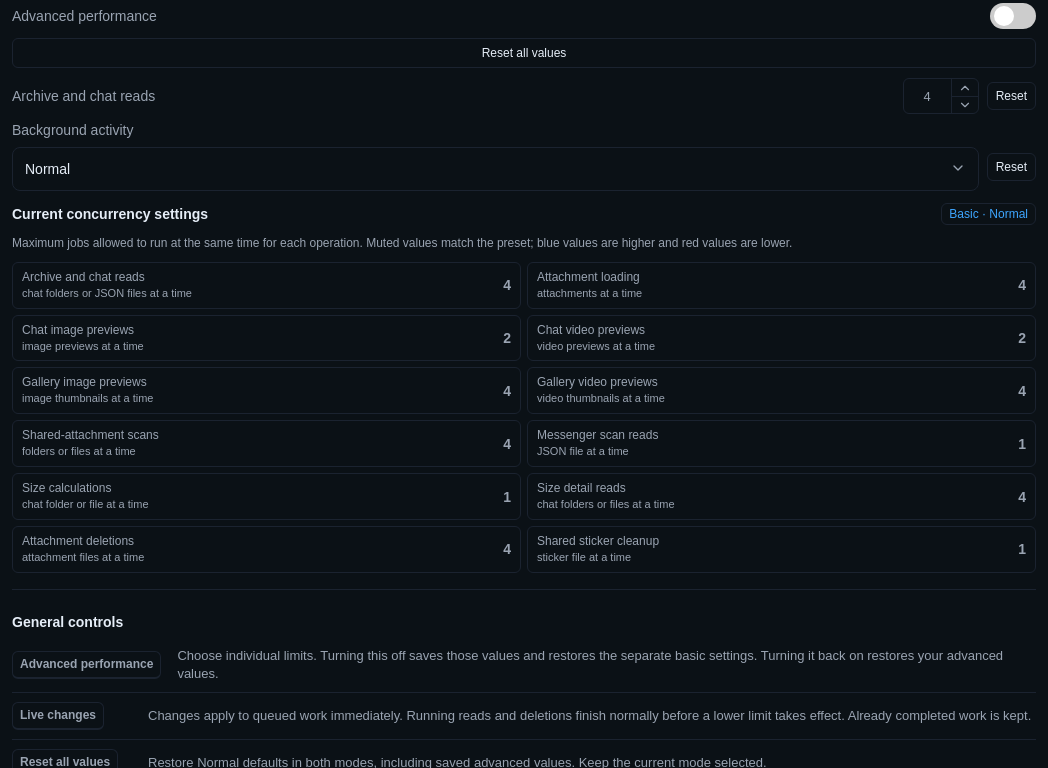
Test case: shows every active limit in the information stats through preset, mode, and reset changes
Expected: the text "JSON file at a time" is shown, [537,445,629,457]
Expected: the text "Basic · Normal" is shown, [941,203,1036,225]
Replace the text in the number field labelled "Archive and chat reads" with "6". click: (927, 96)
box: [904,79,951,113]
Click the button named "Background activity". click: (48, 169)
box: [12,147,979,191]
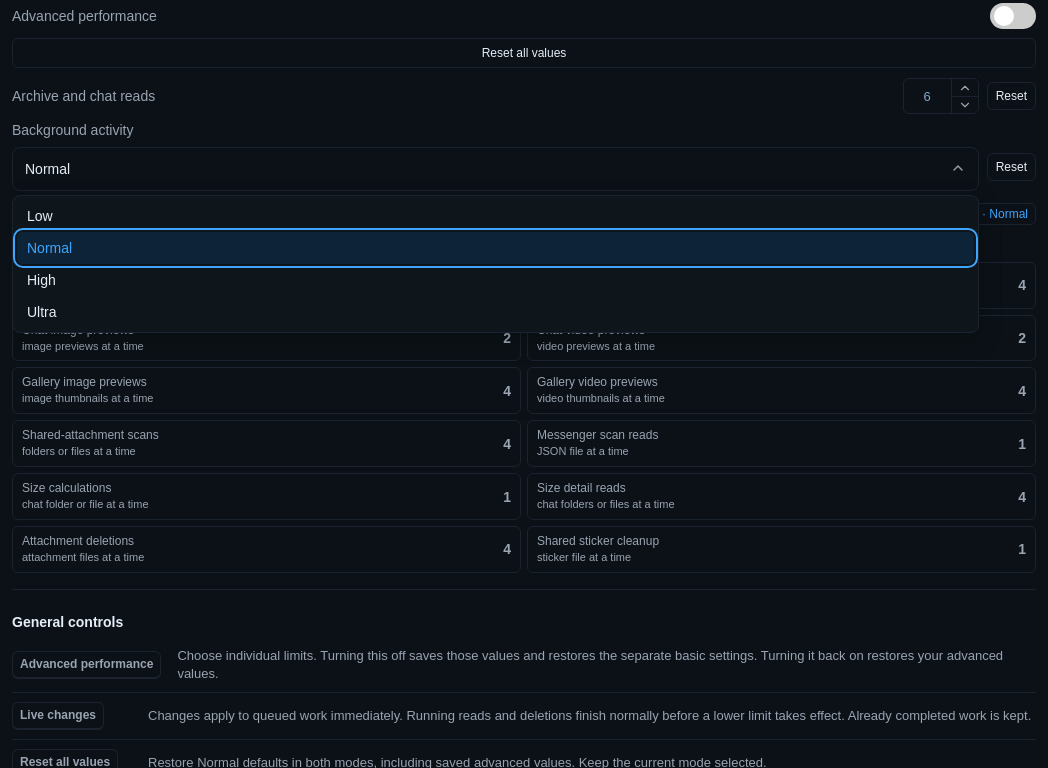
Click the option "Ultra". click: (42, 312)
box: [17,296,974,328]
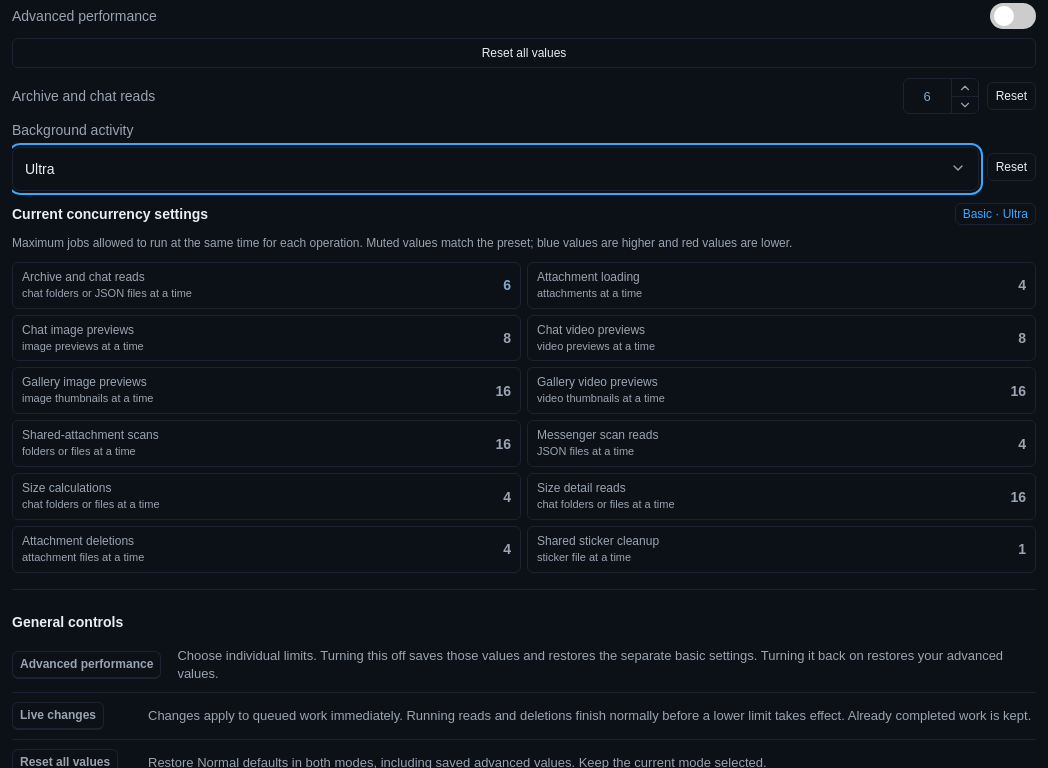
Expected: the text "6" is shown, [503,277,511,293]
Expected: the text "Basic · Ultra" is shown, [955,203,1036,225]
Expected: the text "JSON files at a time" is shown, [537,445,634,457]
Click the checkbox labelled "Advanced performance". click: (84, 16)
box: [12,8,157,24]
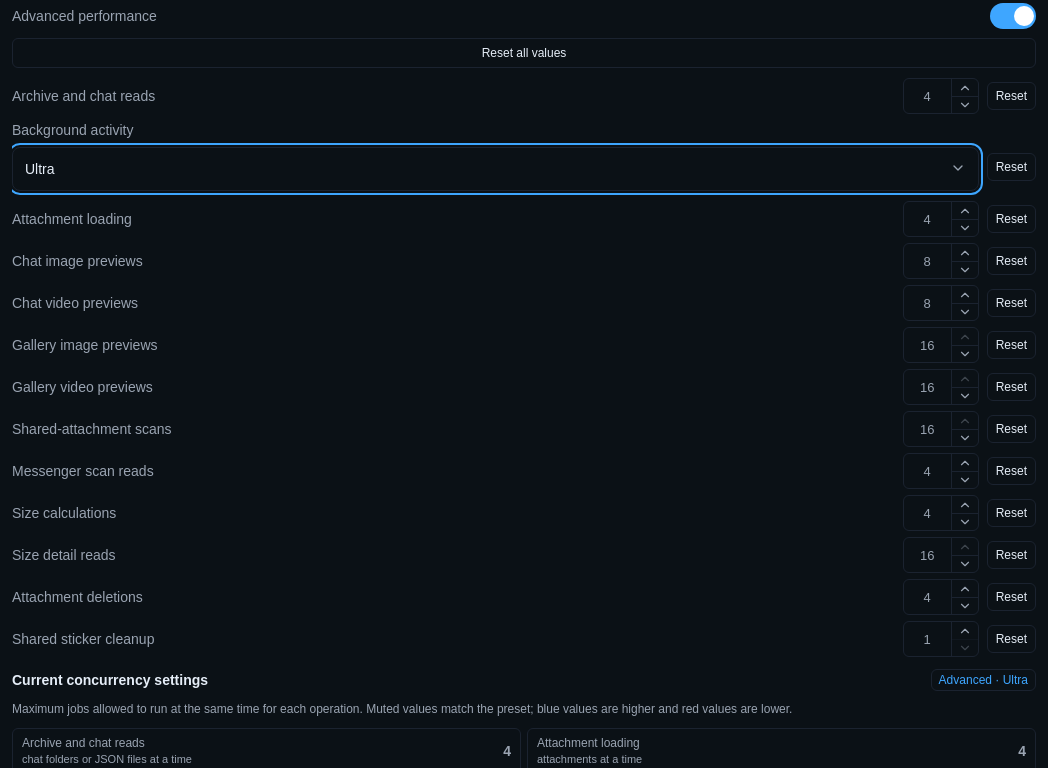
Replace the text in the number field labelled "Chat image previews" with "7". click: (927, 261)
box: [904,244,951,278]
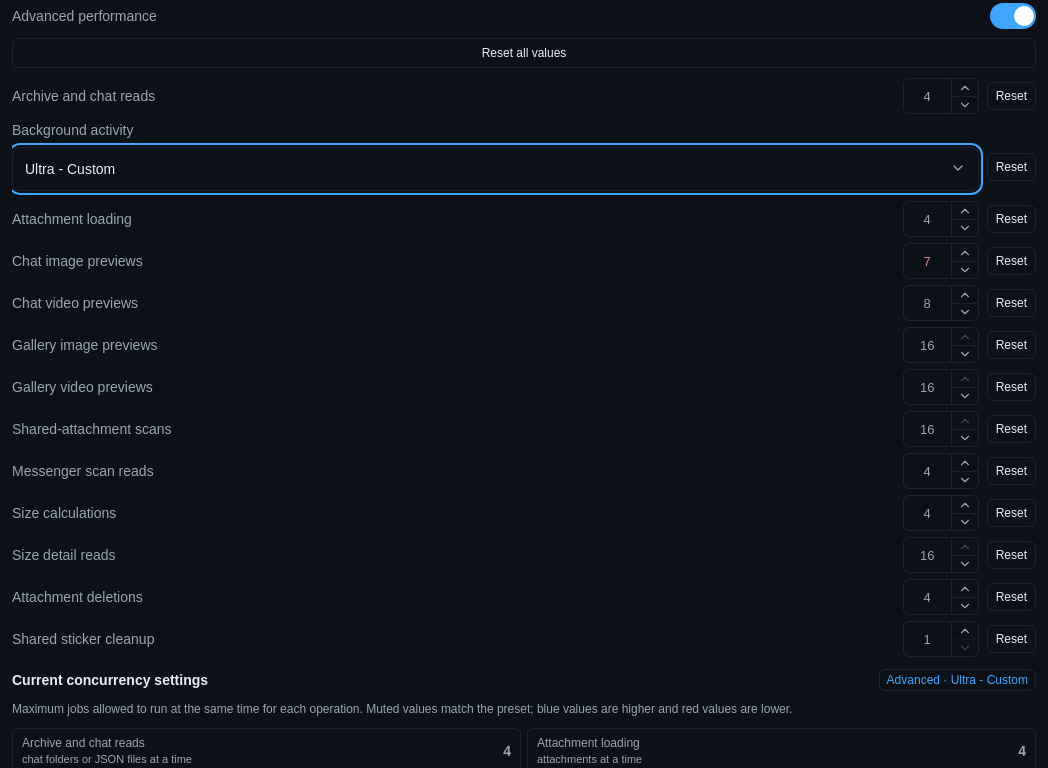
Expected: the 2nd text "4" is shown, [1018,743,1026,759]
Expected: the 1st text "4" is shown, [503,743,511,759]
Expected: the text "Advanced · Ultra - Custom" is shown, [879,669,1036,691]
Click the button "Reset all values". click: (524, 53)
box: [12,38,1036,68]
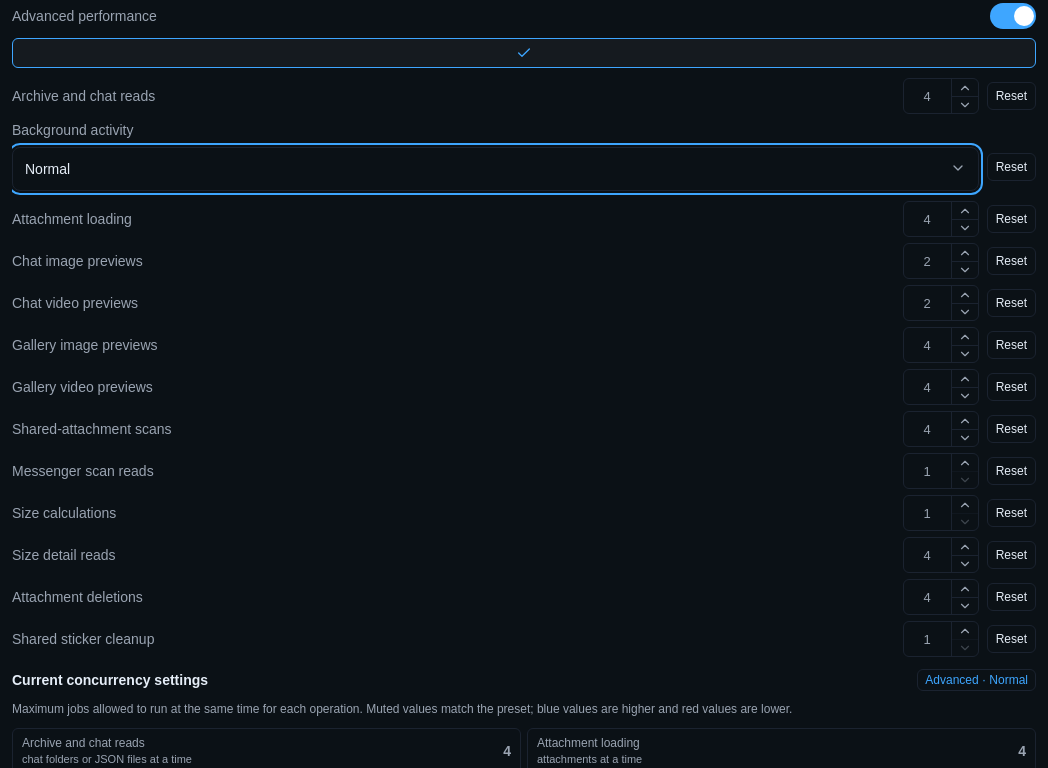
Expected: the 2nd text "4" is shown, [1018,743,1026,759]
Expected: the 1st text "4" is shown, [503,743,511,759]
Click the checkbox labelled "Advanced performance". click: (84, 16)
box: [12,8,157,24]
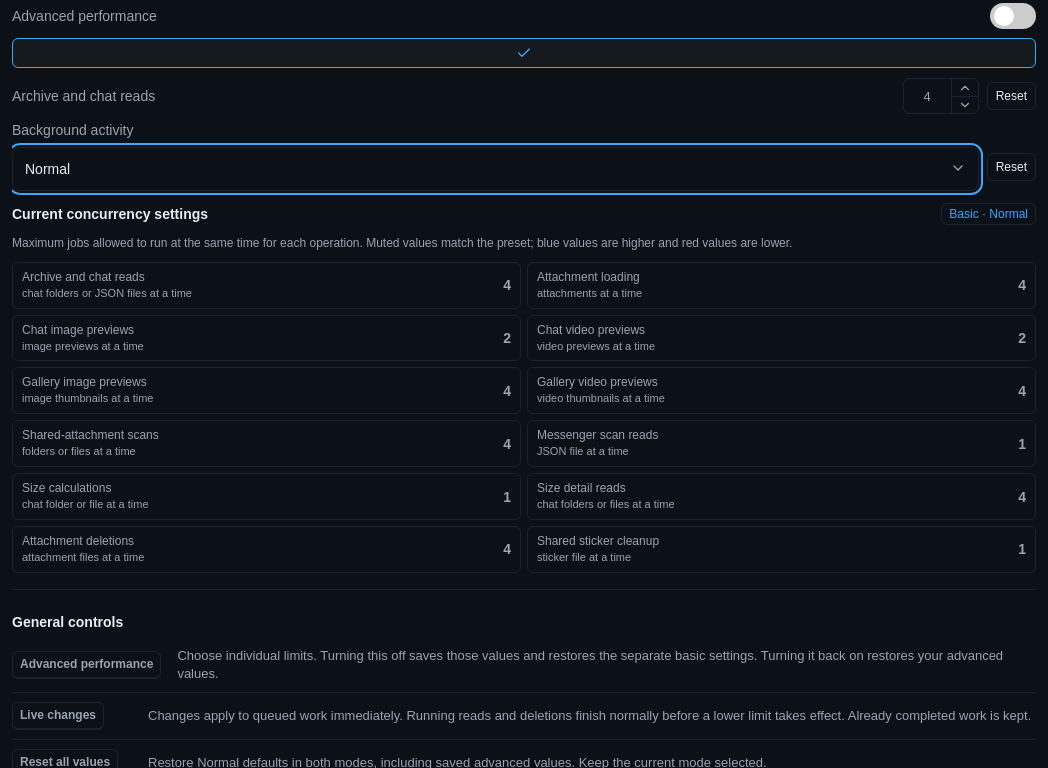
Expected: the 1st text "4" is shown, [503,277,511,293]
Expected: the 1st text "2" is shown, [503,330,511,346]
Expected: the text "Basic · Normal" is shown, [941,203,1036,225]
